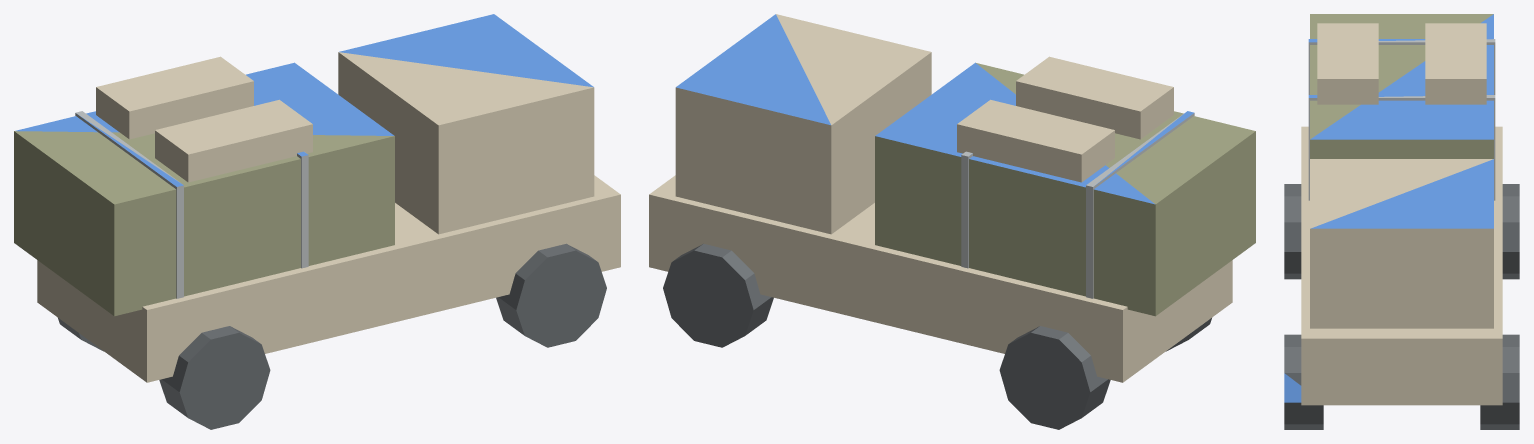
File: meridian_supply_truck.glb
3 views of the same model, side by side, from view 1: azimuth 30°, elevation 25°; view 2: azimuth 150°, elevation 25°; view 3: azimuth 270°, elevation 25° (orthographic). The views are drawn at different scales.
Parts seen in each view (by area): view 1: hull; view 2: hull; view 3: hull.
Boxes of the visible parts, box(x1,y1,x2,y2) form: hull: box(14, 14, 620, 429); hull: box(649, 14, 1255, 429); hull: box(1284, 14, 1519, 429).
Bounding box in the file's own units: 5.63 × 2.83 × 2.5.
